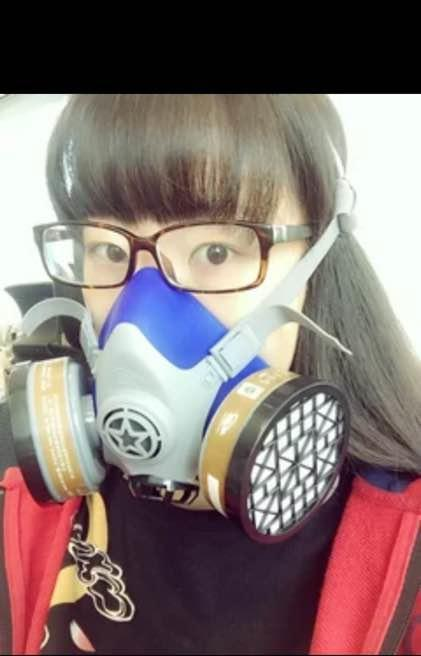OK: (62, 191, 298, 427)
